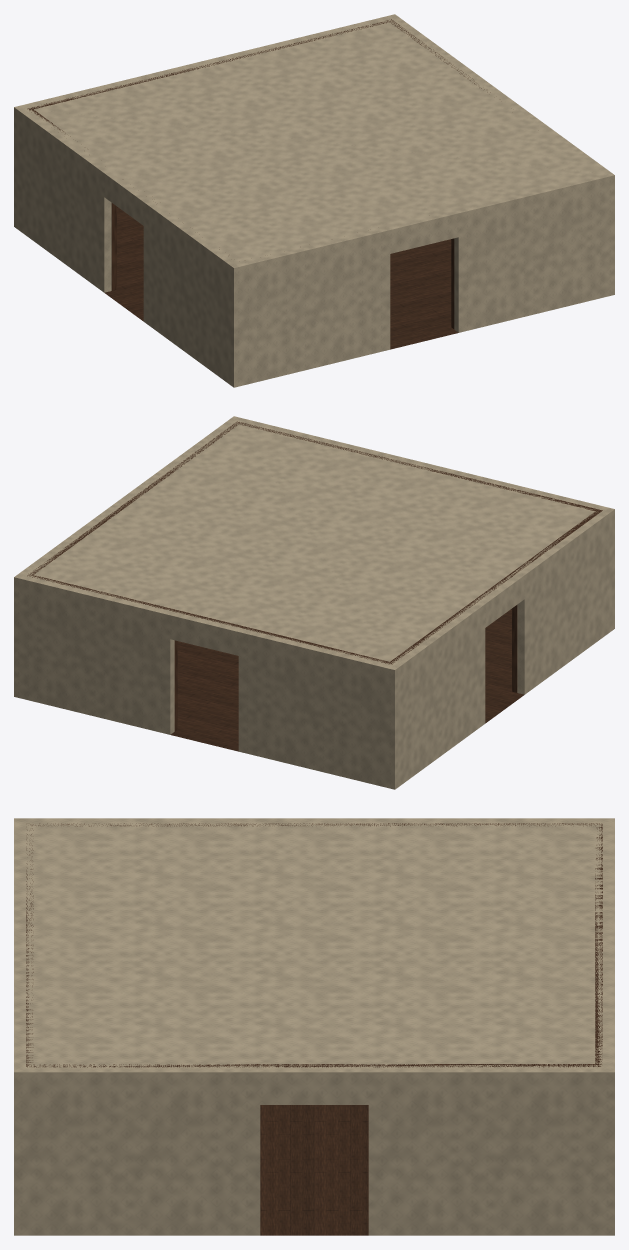
The model's file is StandardRoom.fbx.
3 views of the same model, one above another, from view 1: azimuth 30°, elevation 25°; view 2: azimuth 150°, elevation 25°; view 3: azimuth 270°, elevation 25° (orthographic). The views are drawn at different scales.
Visible parts, largest first — view 1: SM_StandardRoom.001; view 2: SM_StandardRoom.001; view 3: SM_StandardRoom.001.
Boxes of the visible parts, x1=… form: SM_StandardRoom.001: x1=14, y1=14, x2=614, y2=387; SM_StandardRoom.001: x1=14, y1=416, x2=614, y2=789; SM_StandardRoom.001: x1=14, y1=818, x2=614, y2=1235.
Bounding box in the file's own units: 1000 × 300 × 1000.
3 materials, 3 textured.
